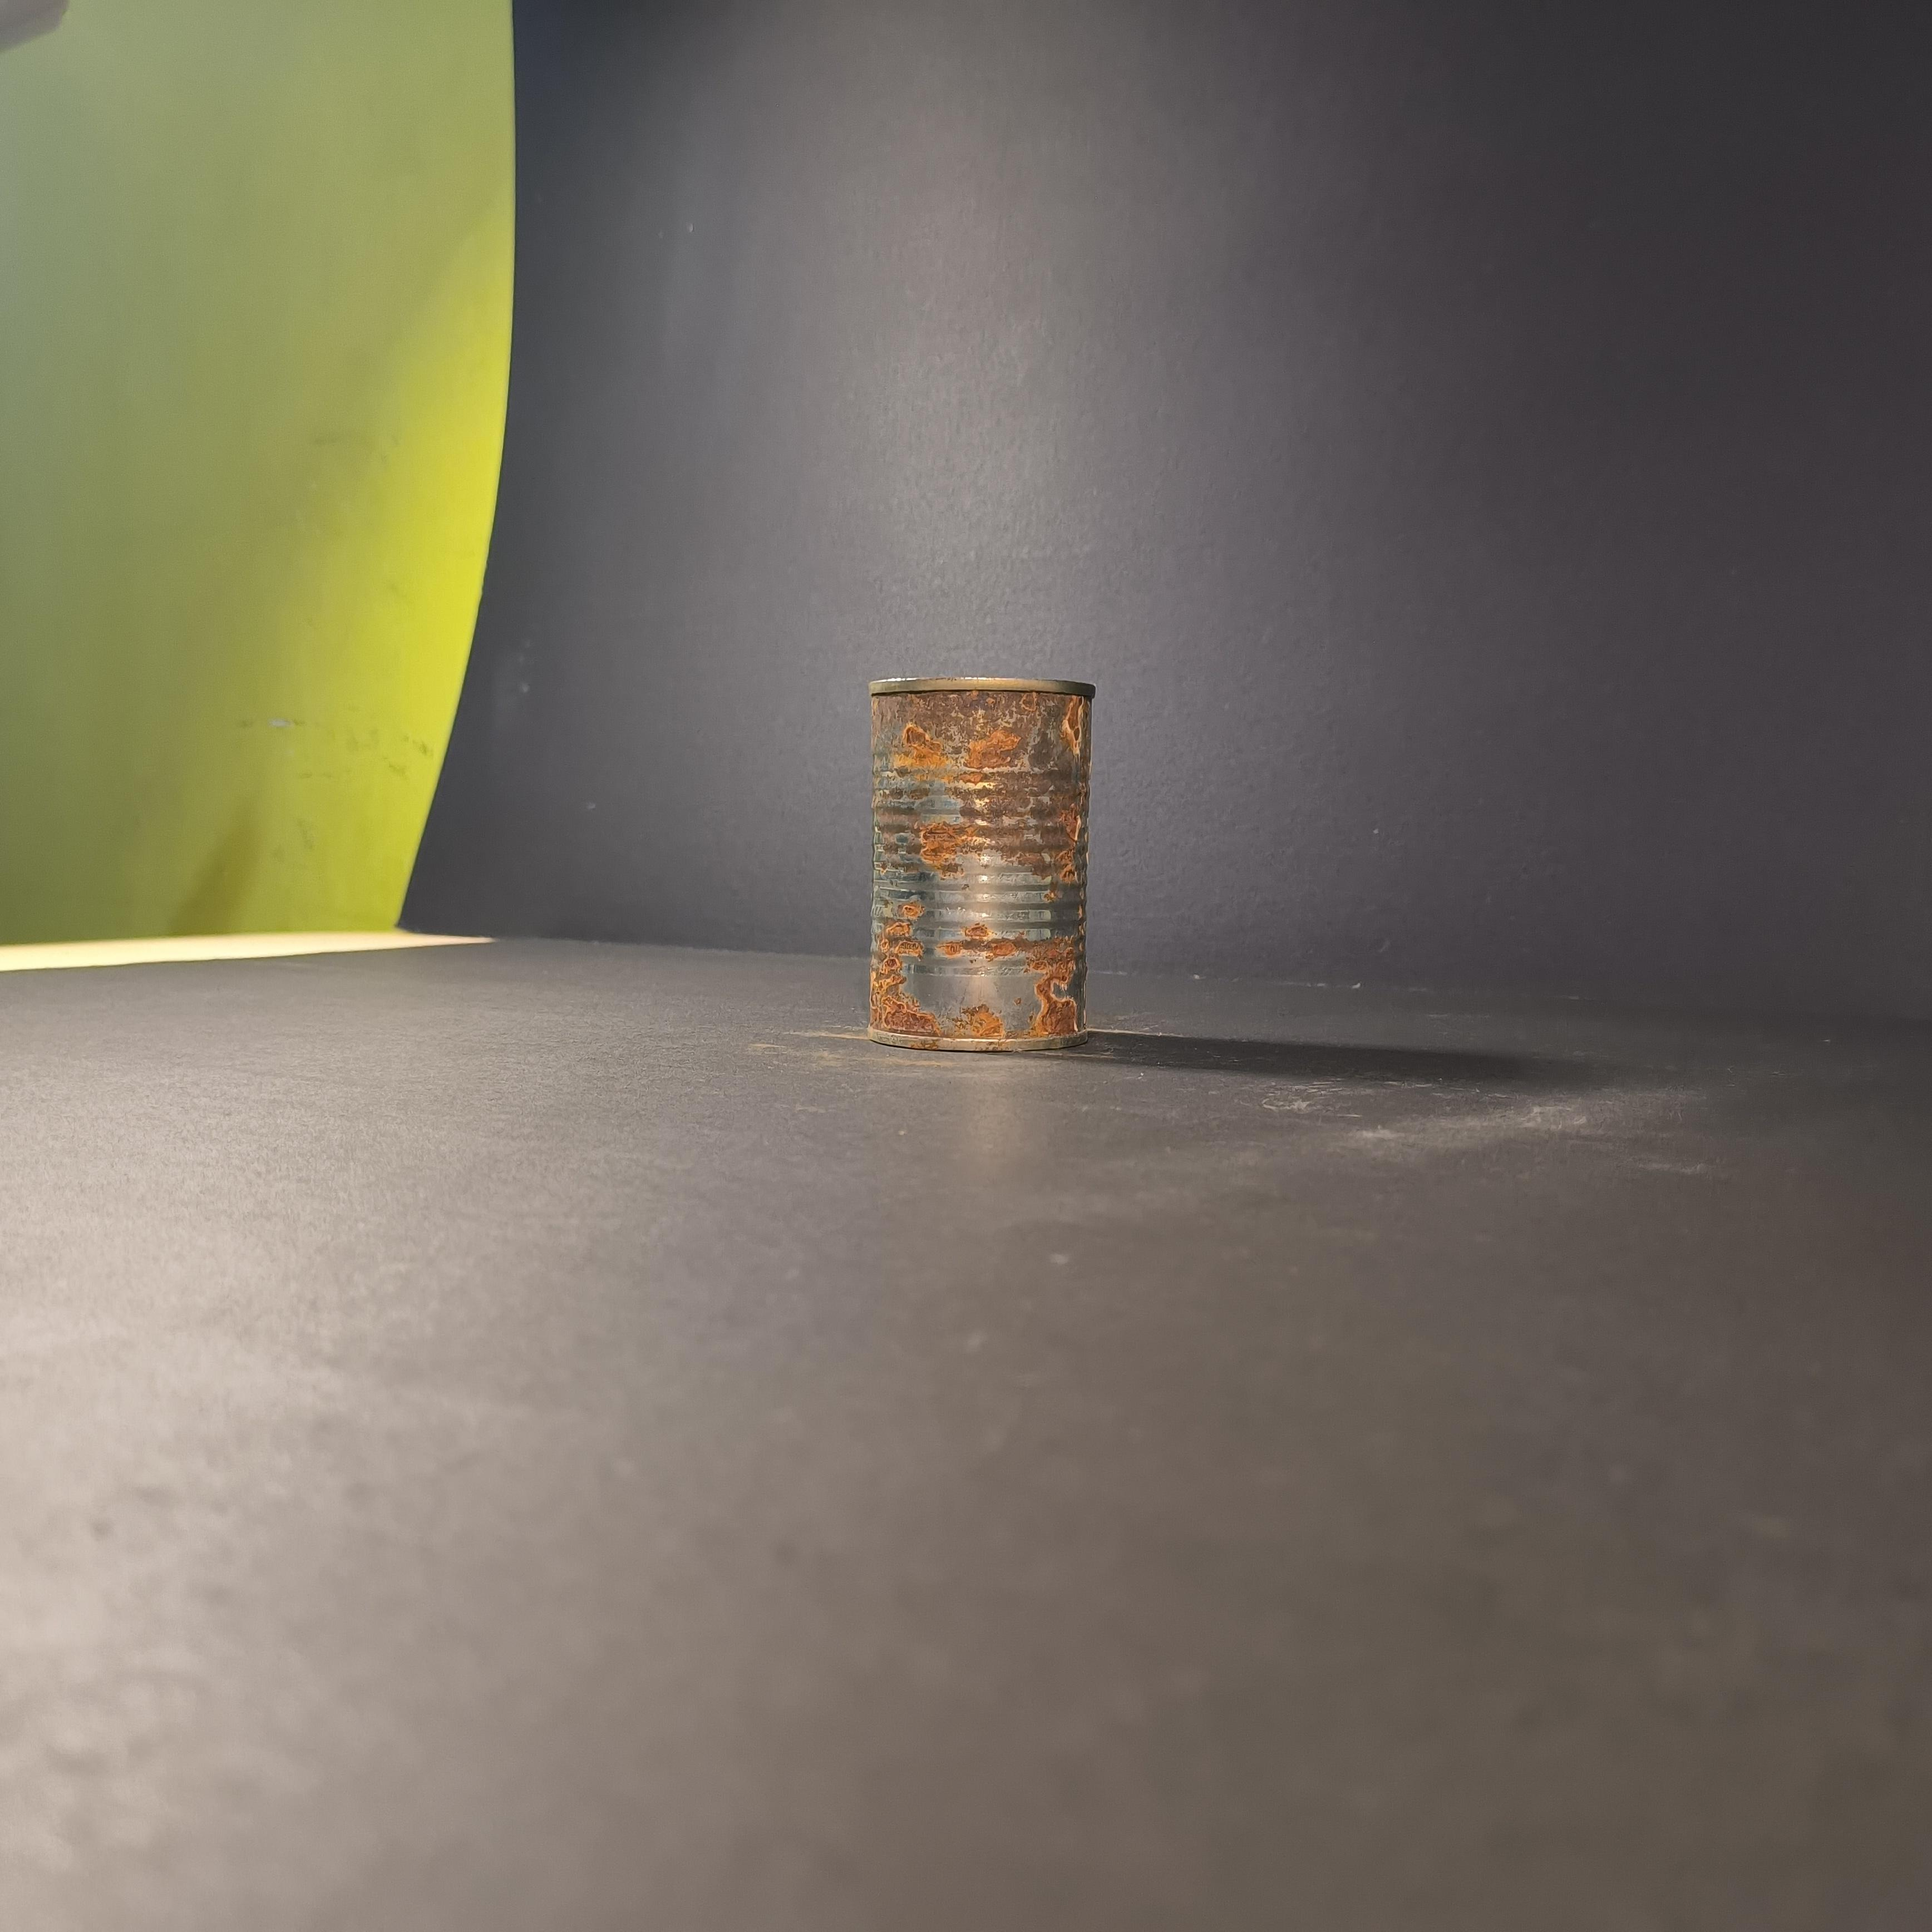Rusted: (846, 646, 1118, 1074)
